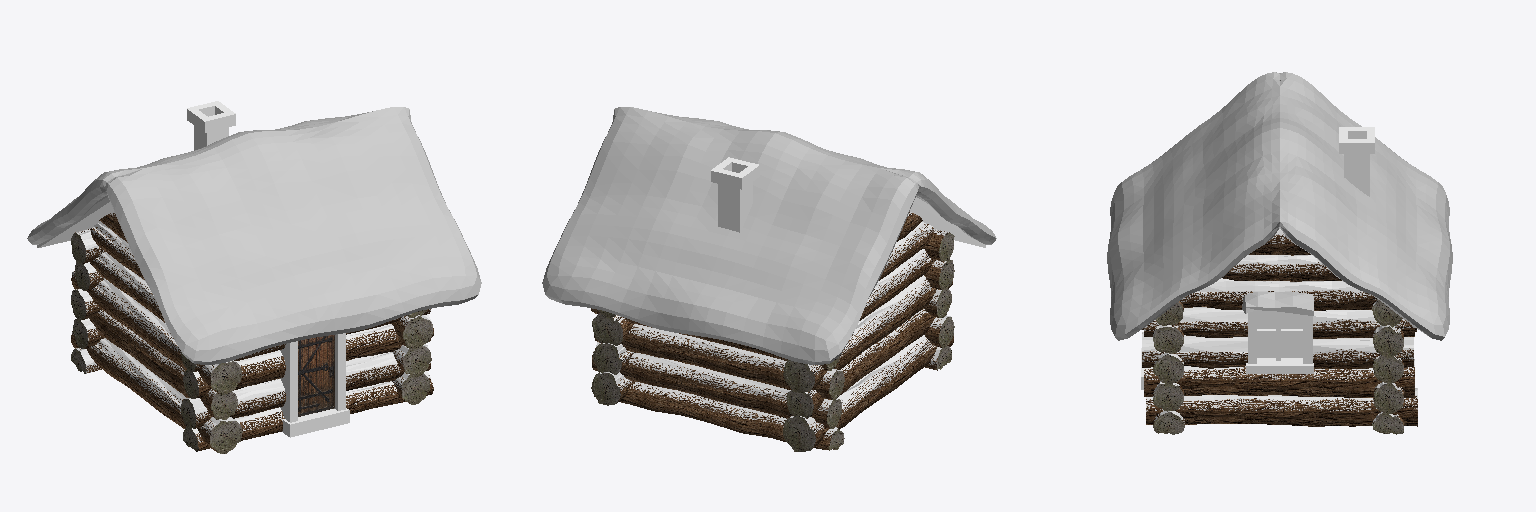
3 views of the same model, side by side, from view 1: azimuth 30°, elevation 25°; view 2: azimuth 150°, elevation 25°; view 3: azimuth 270°, elevation 25° (orthographic).
Parts seen in each view (by area): view 1: obj50, obj25, obj13, obj3, obj9, obj7, obj2, obj19, obj23, obj1, obj35, obj43 (+7 smaller); view 2: obj50, obj15, obj21, obj5, obj25, obj9, obj1, obj19, obj35, obj43, obj49, obj26 (+5 smaller); view 3: obj50, obj27, obj17, obj11, obj33, obj41, obj51, obj46, obj1, obj52, obj53, obj47 (+7 smaller).
Boxes of the visible parts, x1=… form: obj50: x1=27, y1=107, x2=481, y2=364; obj25: x1=71, y1=331, x2=235, y2=451; obj13: x1=183, y1=344, x2=430, y2=428; obj3: x1=280, y1=333, x2=349, y2=437; obj9: x1=71, y1=271, x2=235, y2=393; obj7: x1=193, y1=314, x2=433, y2=397; obj2: x1=298, y1=335, x2=334, y2=416; obj19: x1=89, y1=310, x2=233, y2=419; obj23: x1=189, y1=371, x2=433, y2=450; obj1: x1=187, y1=101, x2=235, y2=150; obj35: x1=90, y1=252, x2=164, y2=322; obj43: x1=91, y1=222, x2=144, y2=279; obj50: x1=542, y1=107, x2=996, y2=364; obj15: x1=592, y1=342, x2=837, y2=428; obj21: x1=594, y1=324, x2=840, y2=399; obj5: x1=594, y1=382, x2=837, y2=449; obj25: x1=790, y1=335, x2=953, y2=447; obj9: x1=808, y1=275, x2=952, y2=389; obj1: x1=711, y1=157, x2=759, y2=232; obj19: x1=789, y1=308, x2=946, y2=418; obj35: x1=860, y1=249, x2=935, y2=320; obj43: x1=879, y1=222, x2=933, y2=280; obj49: x1=910, y1=197, x2=985, y2=247; obj26: x1=783, y1=416, x2=815, y2=451; obj50: x1=1107, y1=72, x2=1452, y2=340; obj27: x1=1146, y1=388, x2=1417, y2=426; obj17: x1=1144, y1=359, x2=1414, y2=397; obj11: x1=1142, y1=332, x2=1413, y2=368; obj33: x1=1144, y1=307, x2=1414, y2=338; obj41: x1=1180, y1=278, x2=1376, y2=310; obj51: x1=1246, y1=310, x2=1313, y2=373; obj46: x1=1222, y1=255, x2=1341, y2=281; obj1: x1=1339, y1=127, x2=1374, y2=196; obj52: x1=1257, y1=313, x2=1302, y2=357; obj53: x1=1242, y1=292, x2=1313, y2=315; obj47: x1=1249, y1=229, x2=1310, y2=255.
Bounding box in the file's own units: 8.46 × 6.55 × 8.23.
7 materials, 3 textured.